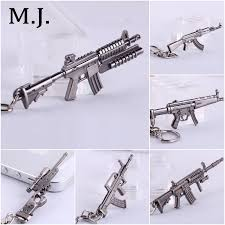gun: (18, 30, 144, 108), (153, 155, 224, 212), (15, 152, 68, 222), (150, 88, 222, 127), (96, 151, 133, 216), (167, 19, 222, 54)
